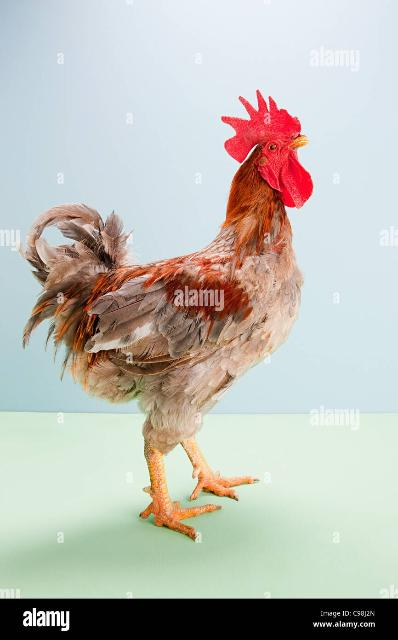Chicken: (21, 88, 312, 537)
